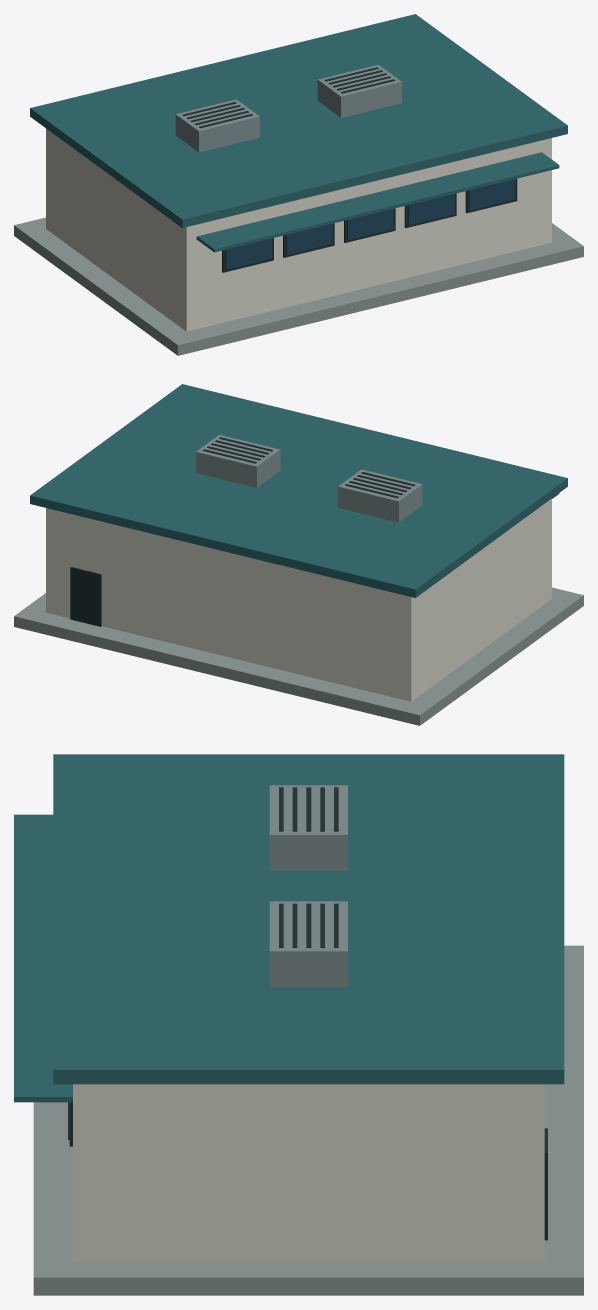
Rendered from control_building.glb.
3 views of the same model, one above another, from view 1: azimuth 30°, elevation 25°; view 2: azimuth 150°, elevation 25°; view 3: azimuth 270°, elevation 25° (orthographic). The views are drawn at different scales.
Parts seen in each view (by area): view 1: control_building; view 2: control_building; view 3: control_building.
Part boxes in pixels (x1=…): control_building: x1=14, y1=14, x2=583, y2=355; control_building: x1=14, y1=384, x2=583, y2=725; control_building: x1=14, y1=754, x2=583, y2=1295.
Bounding box in the file's own units: 20 × 7.13 × 14.5.
